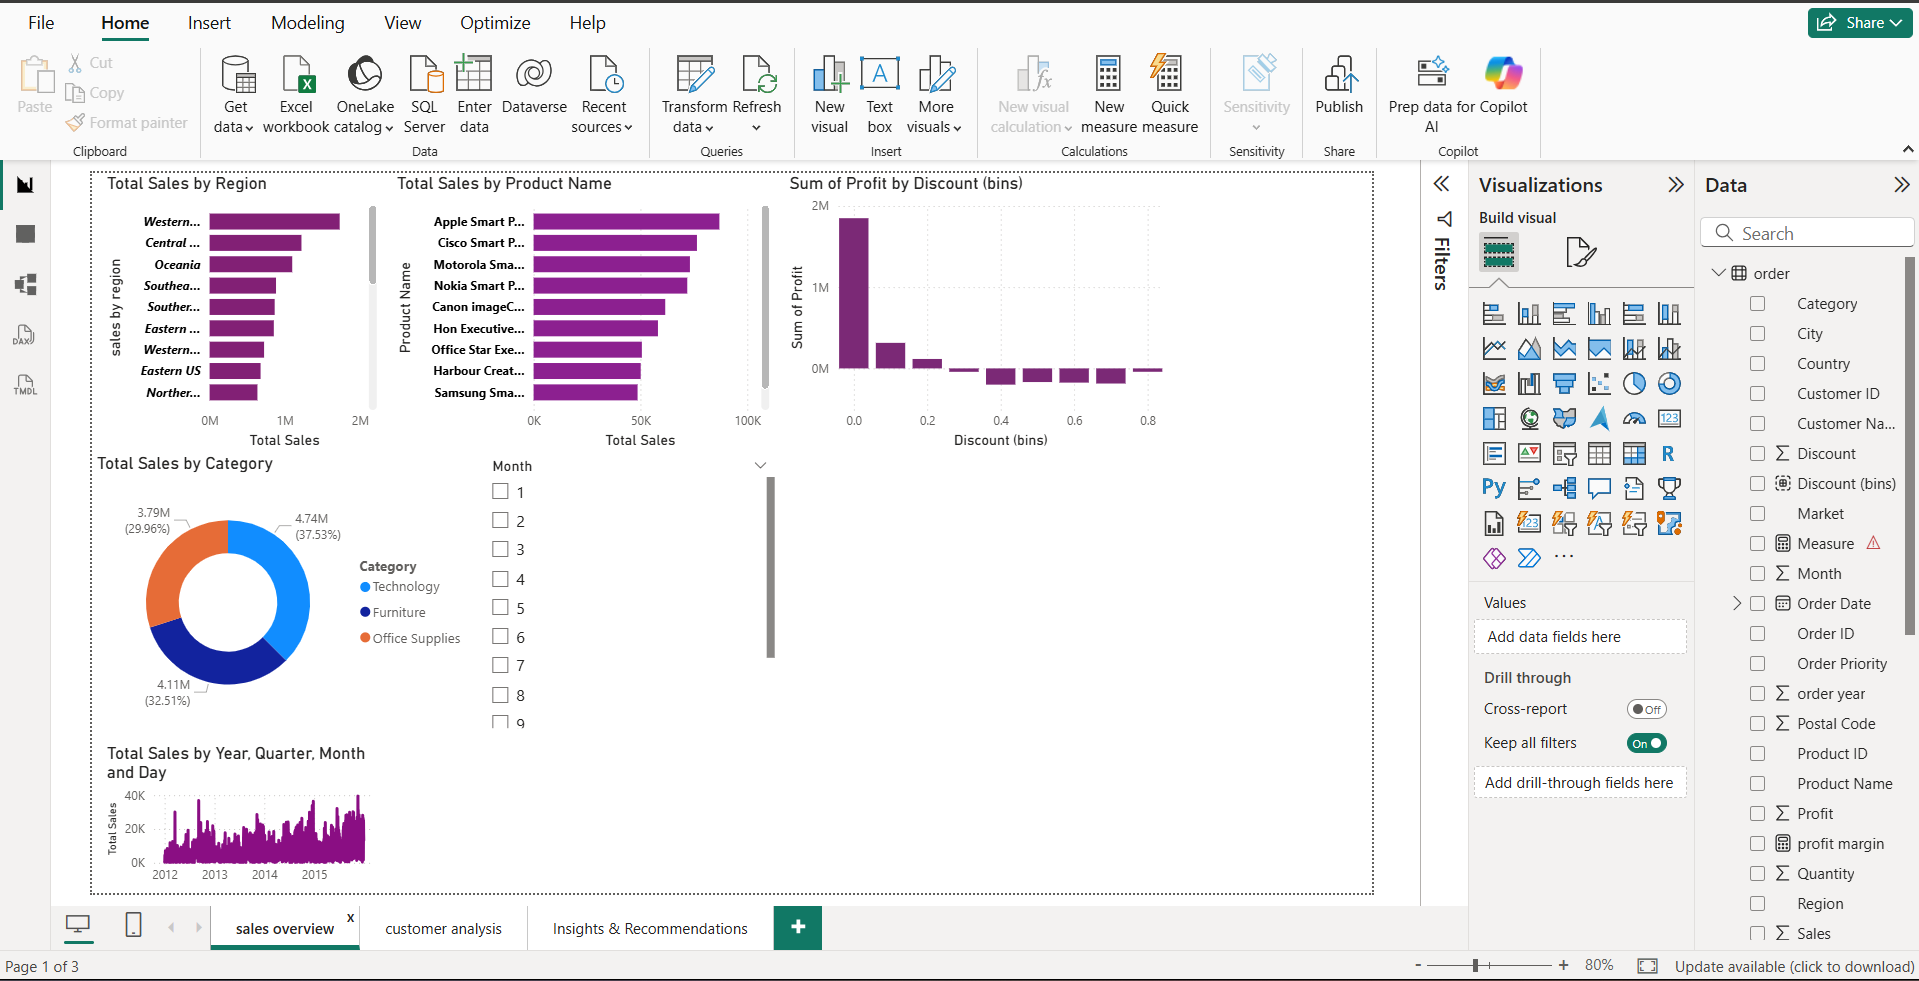

Layout of this report page (visuals, bound fields, positions):
{"tool":"powerbi","page":{"name":"sales overview","canvas":[1280,720],"ordinal":0},"visuals":[{"type":"clusteredBarChart","fields":{"Category":["order.Region"],"Y":["order.Total Sales"]},"box":[10,0,280,280],"z":0},{"type":"lineChart","fields":{"Y":["order.Total Sales"],"Category":["order.Order Date.Variation.Date Hierarchy.Year","order.Order Date.Variation.Date Hierarchy.Quarter","order.Order Date.Variation.Date Hierarchy.Month","order.Order Date.Variation.Date Hierarchy.Day"]},"box":[10,570,280,150],"z":1000},{"type":"barChart","fields":{"Category":["order.Product Name"],"Y":["order.Total Sales"]},"box":[300,0,382.5,280],"z":2000},{"type":"donutChart","fields":{"Category":["order.Category"],"Y":["order.Total Sales"]},"box":[0,280,382.5,280],"z":3000},{"type":"slicer","fields":{"Values":["order.Month"]},"box":[387.1,280,300,280],"z":4000},{"type":"columnChart","fields":{"Y":["Sum(order.Profit)"],"Category":["order.Discount (bins)"]},"box":[693,0,383,280],"z":5000}]}

Visuals, with their boxes on the page's 1280x720 design canvas (x1, y1, x2, y2). These are canvas units, not pixel positions in the 1919x981 screenshot, which may show the page scaled, cropped or inside an application window:
clusteredBarChart - order.Region x order.Total Sales: bbox=(10, 0, 290, 280)
lineChart - order.Total Sales x order.Order Date.Variation.Date Hierarchy.Year: bbox=(10, 570, 290, 720)
barChart - order.Product Name x order.Total Sales: bbox=(300, 0, 682, 280)
donutChart - order.Category x order.Total Sales: bbox=(0, 280, 382, 560)
slicer - order.Month: bbox=(387, 280, 687, 560)
columnChart - Sum(order.Profit) x order.Discount (bins): bbox=(693, 0, 1076, 280)
